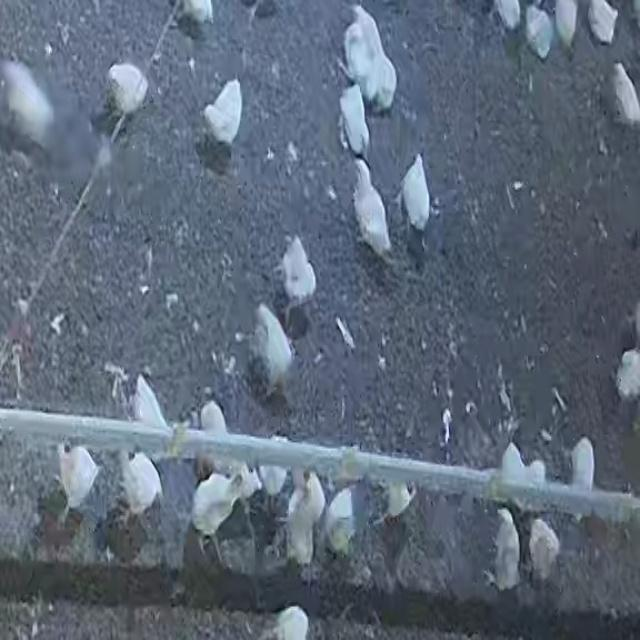chicken: (339, 0, 392, 114), (284, 471, 327, 567), (349, 155, 390, 255), (191, 469, 245, 543), (253, 302, 295, 394), (56, 442, 100, 518), (116, 450, 164, 519), (278, 234, 317, 310), (397, 155, 433, 231), (202, 81, 243, 147), (332, 85, 371, 149), (492, 508, 521, 591), (323, 486, 358, 554), (528, 515, 560, 584), (132, 373, 170, 431), (106, 64, 148, 116), (614, 57, 640, 128), (196, 393, 232, 444), (524, 2, 554, 58), (568, 436, 595, 496), (256, 450, 289, 498), (586, 0, 620, 45), (380, 480, 416, 522), (270, 604, 310, 640), (614, 349, 640, 401), (174, 0, 212, 31), (554, 1, 579, 47), (493, 0, 522, 32)
